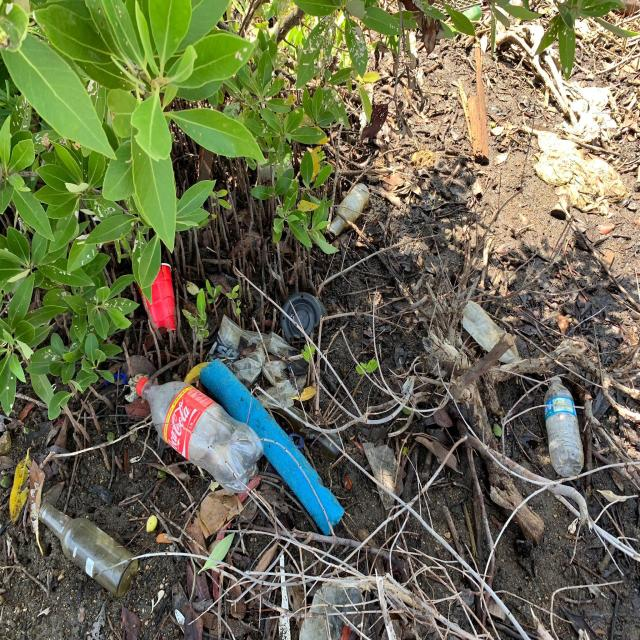litter: (197, 355, 351, 543), (132, 375, 267, 493), (207, 312, 320, 417), (35, 499, 144, 600), (452, 298, 525, 371), (296, 572, 375, 637), (272, 399, 348, 464), (541, 376, 587, 480), (131, 259, 186, 340), (357, 439, 411, 517), (273, 287, 334, 345), (322, 179, 373, 239), (254, 156, 298, 189), (275, 553, 291, 638), (170, 606, 196, 636), (100, 369, 129, 387), (134, 373, 152, 398), (548, 374, 565, 385)
